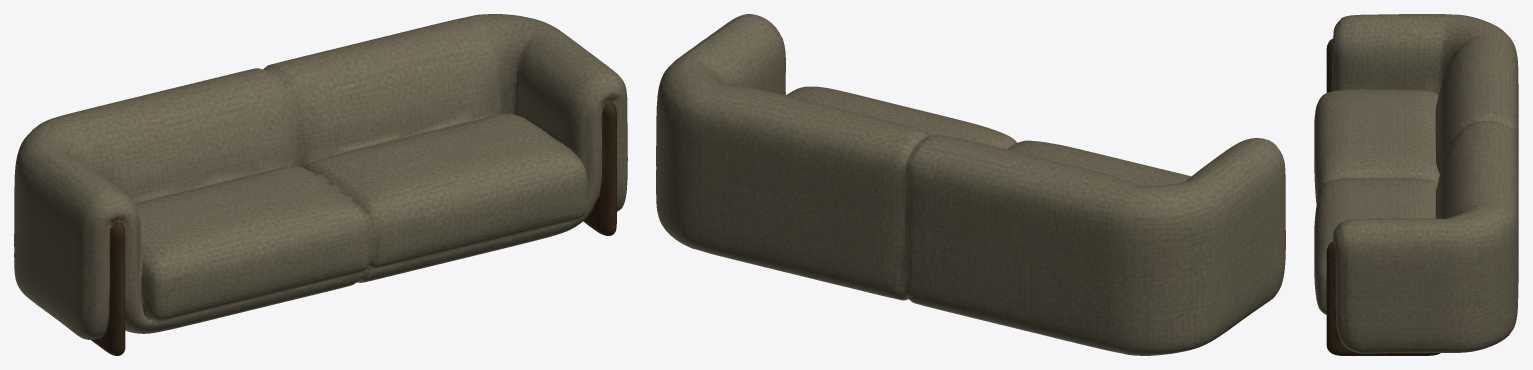
Rendered from sage-bubble-sofa.glb.
The picture shows the model from 3 angles, left to right: view 1: azimuth 30°, elevation 25°; view 2: azimuth 150°, elevation 25°; view 3: azimuth 270°, elevation 25°; orthographic projection. The views are drawn at different scales.
Parts seen in each view (by area): view 1: world; view 2: world; view 3: world.
Boxes of the visible parts, <box> form: world: <box>14,14,627,355</box>; world: <box>656,14,1285,355</box>; world: <box>1314,14,1518,355</box>.
Size of the model in its own units: 1 by 0.2831 by 0.3832.
1 material, 1 textured.
